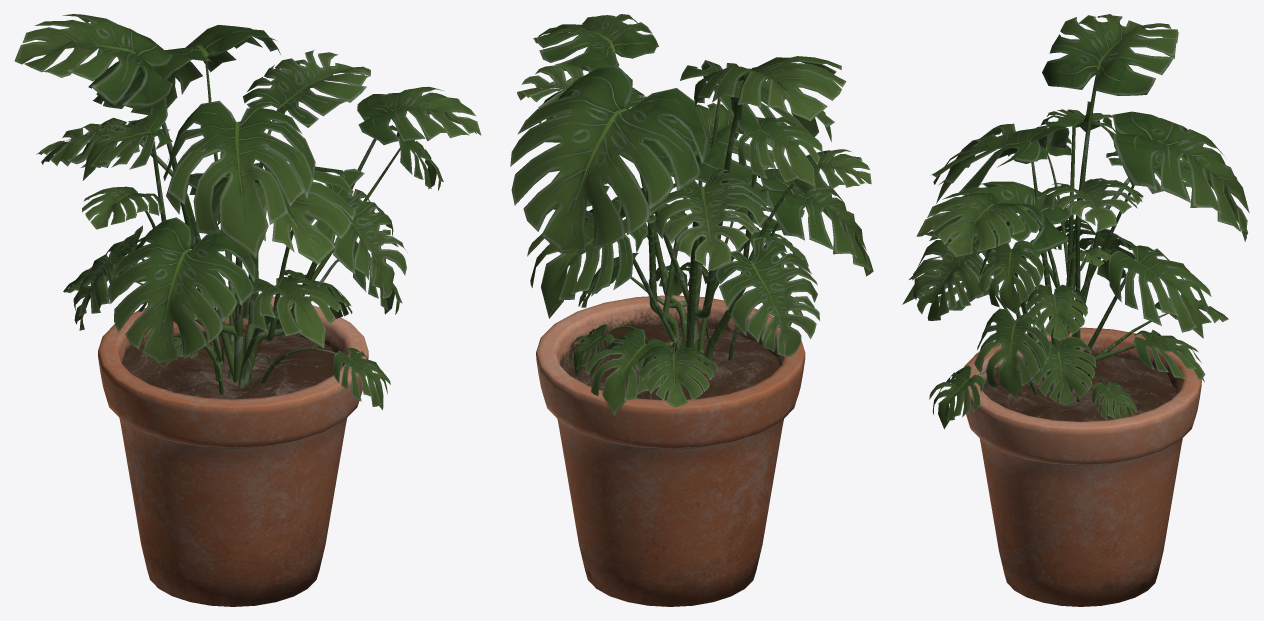
The model's file is CheesePlant.fbx.
3 views of the same model, side by side, from view 1: azimuth 30°, elevation 25°; view 2: azimuth 150°, elevation 25°; view 3: azimuth 270°, elevation 25° (orthographic). The views are drawn at different scales.
Parts seen in each view (by area): view 1: CheesePlant; view 2: CheesePlant; view 3: CheesePlant.
Part boxes in pixels (box(x1,y1,x2,y2)): CheesePlant: box(14, 14, 481, 606); CheesePlant: box(510, 14, 873, 606); CheesePlant: box(902, 14, 1249, 606).
Bounding box in the file's own units: 0.5078 × 0.462 × 0.7266.
Materials: 4 (4 with a texture image).
